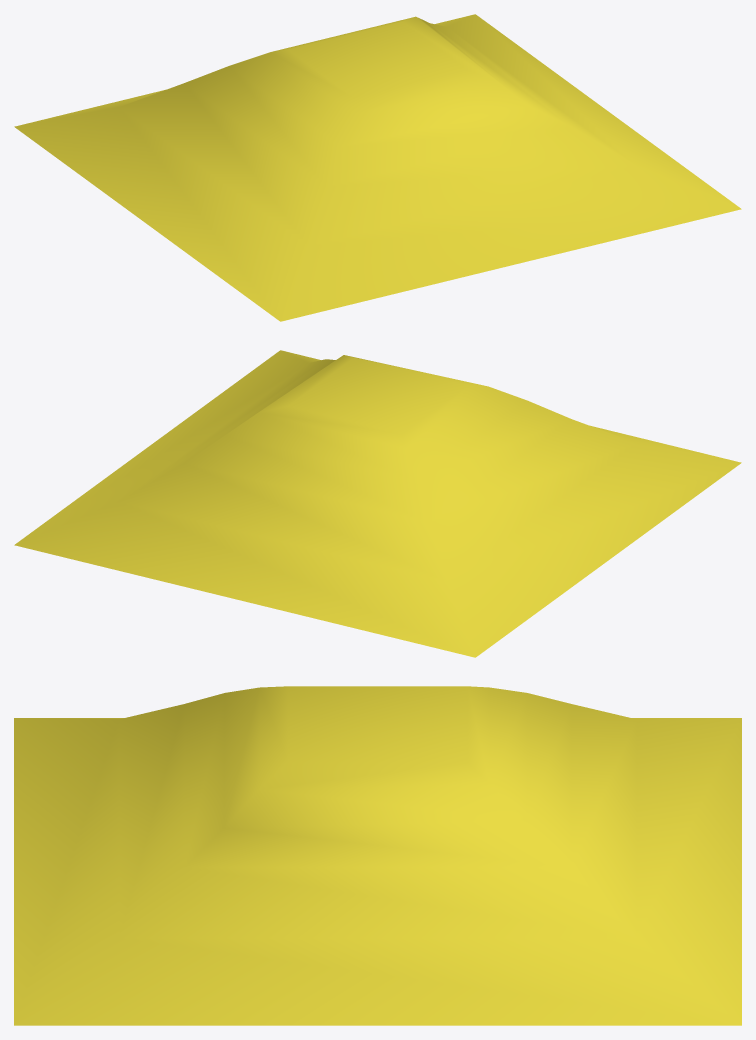
File: island-02.glb
3 views of the same model, one above another, from view 1: azimuth 30°, elevation 25°; view 2: azimuth 150°, elevation 25°; view 3: azimuth 270°, elevation 25° (orthographic). The views are drawn at different scales.
Parts seen in each view (by area): view 1: Plane.003; view 2: Plane.003; view 3: Plane.003.
Boxes of the visible parts, bbox=[...] form: Plane.003: bbox=[14, 14, 741, 321]; Plane.003: bbox=[14, 350, 741, 657]; Plane.003: bbox=[14, 686, 741, 1025].
Size of the model in its own units: 23.41 by 5.24 by 23.41.
